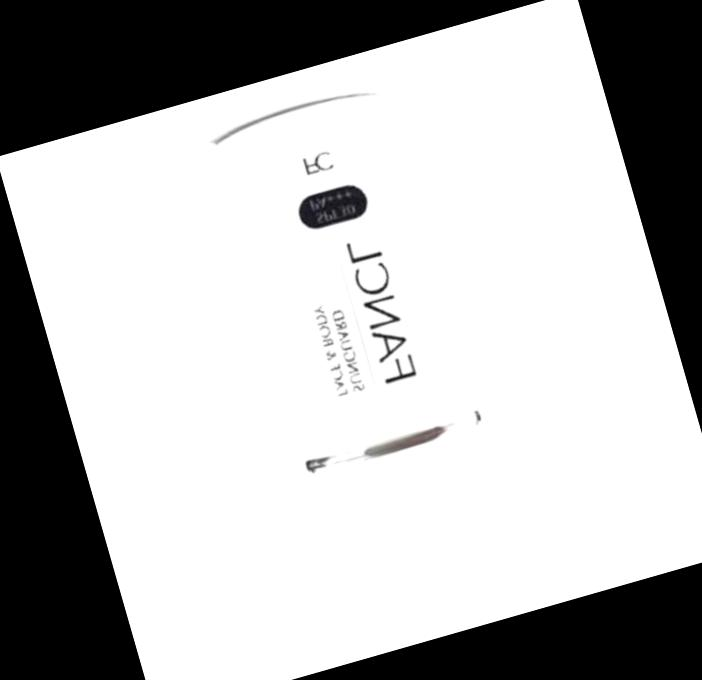cosmetic: (200, 78, 526, 586)
